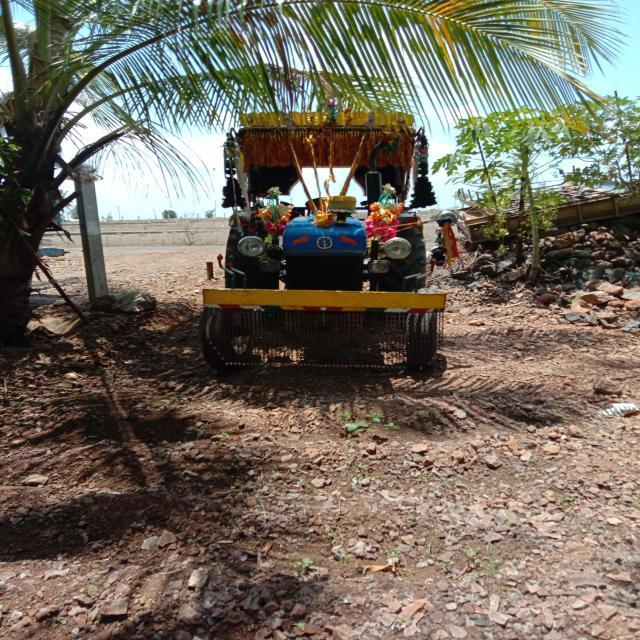tractor_front: (196, 96, 459, 372)
